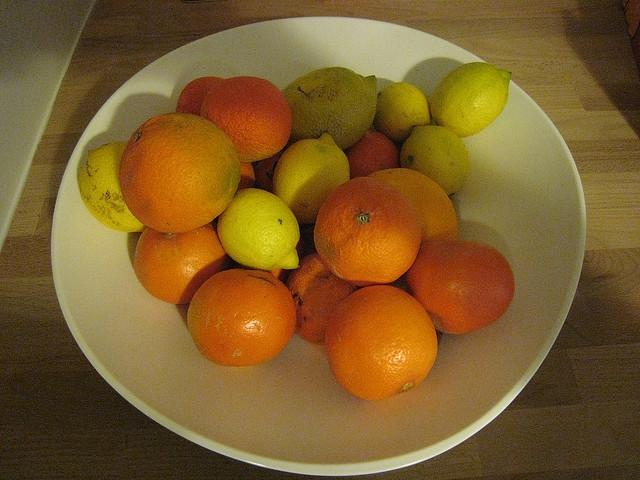lemon: (285, 67, 377, 151), (272, 130, 350, 225), (217, 188, 300, 272), (78, 141, 148, 232), (430, 62, 511, 138), (401, 125, 468, 197), (373, 82, 432, 143)
lime: (284, 66, 378, 150), (272, 130, 350, 224), (218, 188, 300, 272), (78, 140, 148, 232), (429, 62, 512, 138), (400, 126, 470, 198), (374, 82, 432, 143)
orange: (120, 112, 241, 233), (325, 285, 437, 400), (314, 176, 422, 288), (186, 270, 296, 368), (405, 237, 515, 334), (200, 76, 292, 163), (134, 223, 225, 304), (286, 252, 364, 346), (365, 168, 458, 243), (342, 130, 402, 180), (176, 77, 226, 116), (252, 147, 288, 195), (236, 162, 255, 192)
